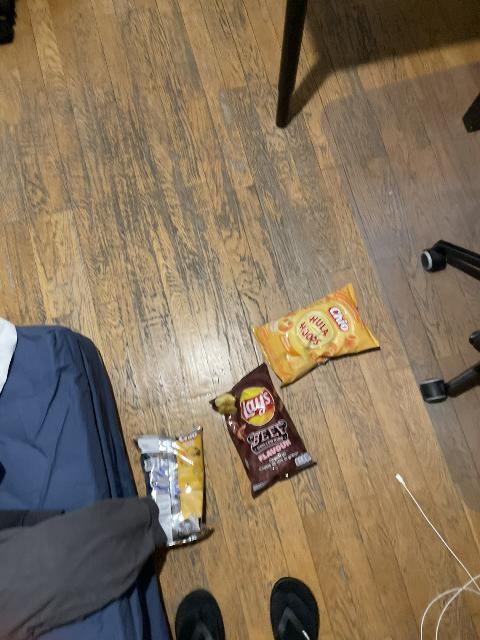Chio Cascaval 125g: (132, 429, 210, 547)
Chio Hula Hoops Cheese 70g: (251, 286, 378, 384)
Lays Beef Grilled Ribs 125g: (213, 363, 319, 494)
